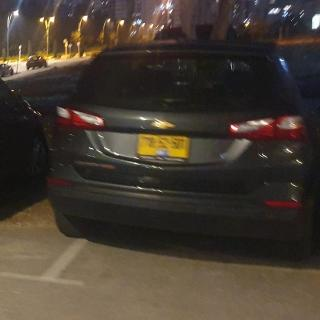LicensePlate: (138, 134, 190, 151)
